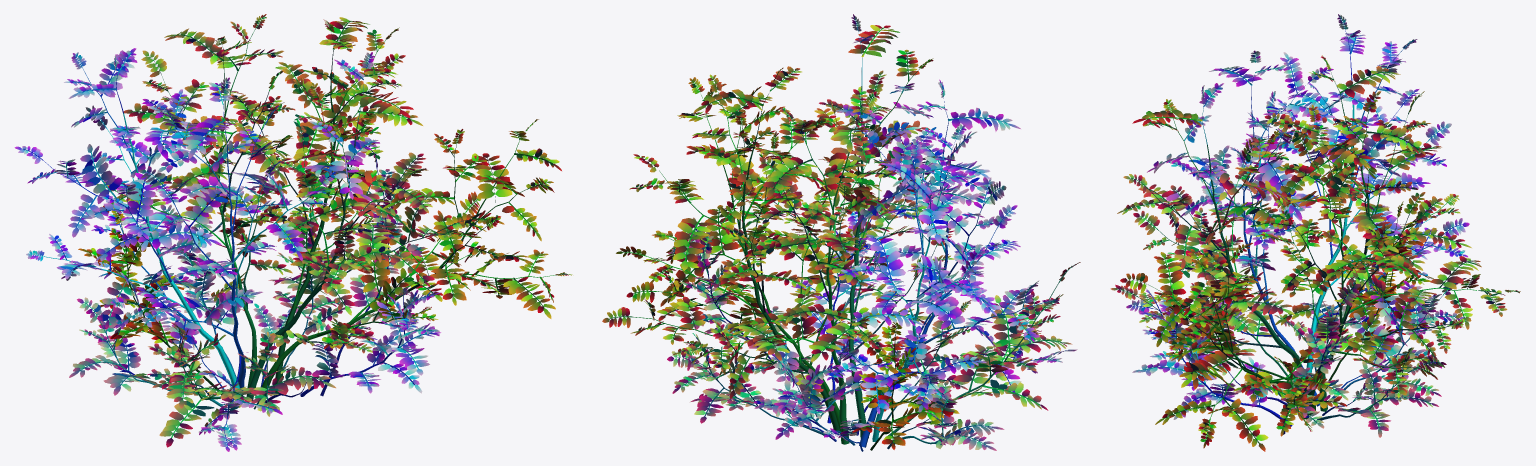
The model's file is Black_Locust_wdvhberja_Mid_wdvhberja_VarC_LOD0.fbx.
3 views of the same model, side by side, from view 1: azimuth 30°, elevation 25°; view 2: azimuth 150°, elevation 25°; view 3: azimuth 270°, elevation 25° (orthographic). The views are drawn at different scales.
Visible parts, largest first — view 1: _8usa_VarC_LOD1; view 2: _8usa_VarC_LOD1; view 3: _8usa_VarC_LOD1.
Part boxes in pixels (<box>): _8usa_VarC_LOD1: <box>14,14,572,451</box>; _8usa_VarC_LOD1: <box>602,14,1080,451</box>; _8usa_VarC_LOD1: <box>1110,14,1520,451</box>.
Bounding box in the file's own units: 182 × 147 × 155.
